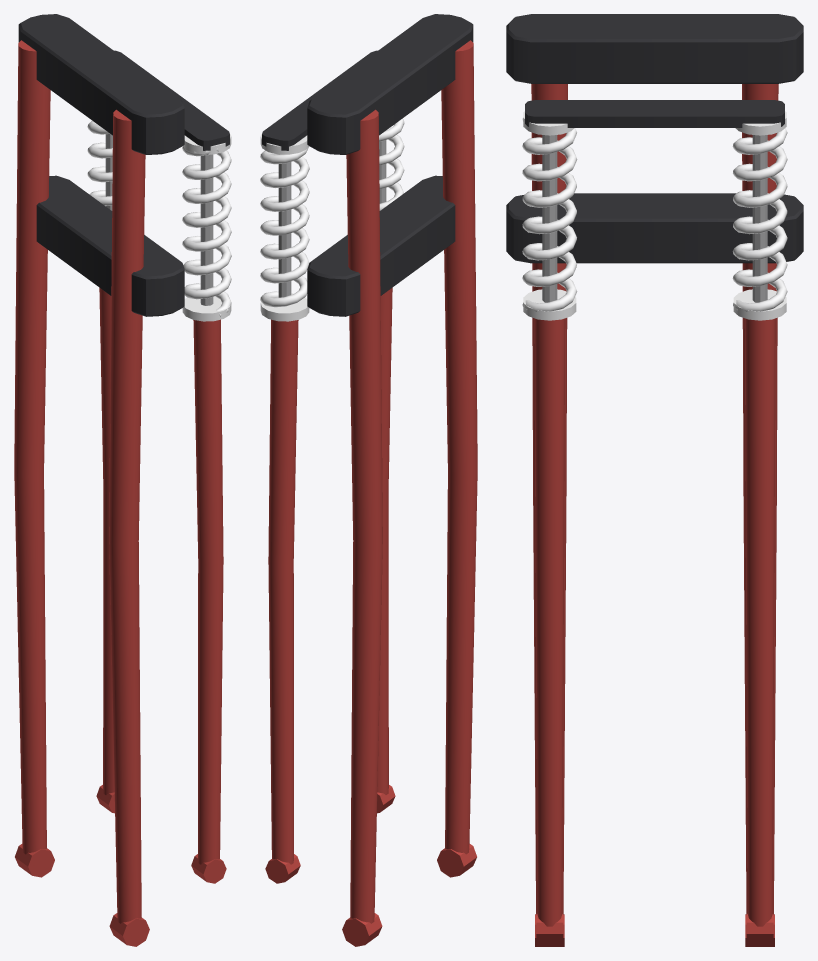
Rendered from bobber_springer_short_upper.glb.
The picture shows the model from 3 angles, left to right: view 1: azimuth 30°, elevation 25°; view 2: azimuth 150°, elevation 25°; view 3: azimuth 270°, elevation 25°; orthographic projection. The views are drawn at different scales.
Visible parts, largest first — view 1: bobber_springer_short_upper; view 2: bobber_springer_short_upper; view 3: bobber_springer_short_upper.
Boxes of the visible parts, <box> form: bobber_springer_short_upper: <box>14,14,231,946</box>; bobber_springer_short_upper: <box>260,14,477,946</box>; bobber_springer_short_upper: <box>506,14,803,946</box>.
Bounding box in the file's own units: 0.1214 × 0.8294 × 0.24.
